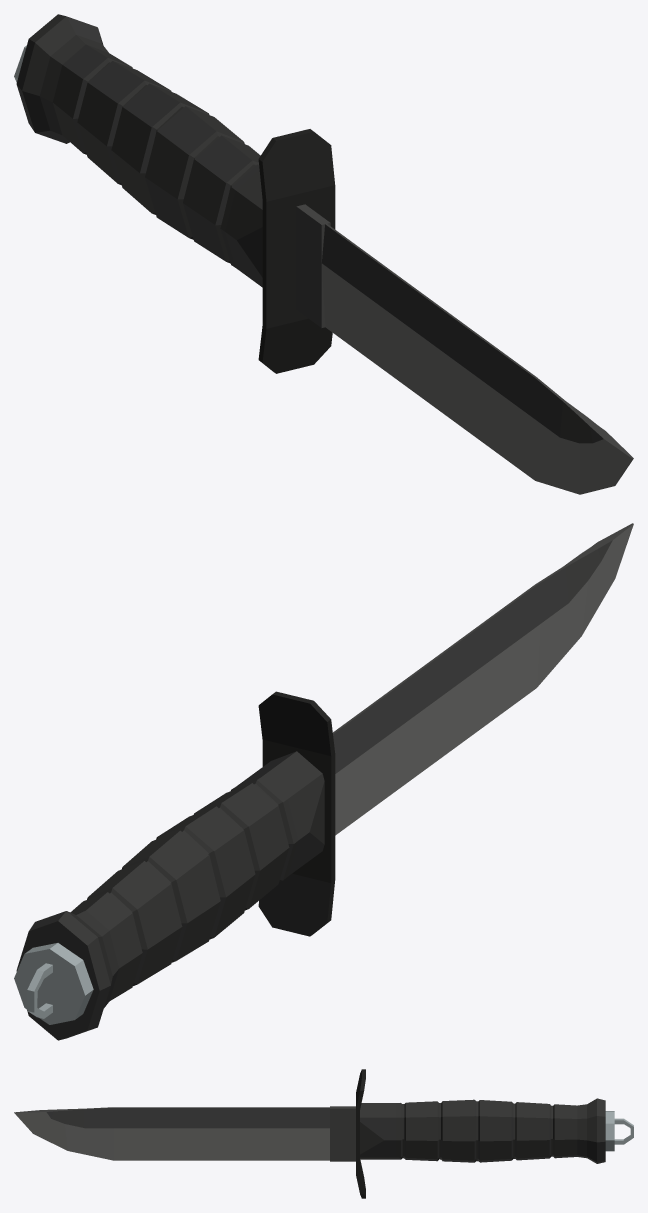
File: knife.fbx
3 views of the same model, one above another, from view 1: azimuth 30°, elevation 25°; view 2: azimuth 150°, elevation 25°; view 3: azimuth 270°, elevation 25° (orthographic). The views are drawn at different scales.
Visible parts, largest first — view 1: Knife; view 2: Knife; view 3: Knife.
Boxes of the visible parts, x1,y1,x2,y2 form: Knife: (14, 14, 633, 494); Knife: (14, 523, 633, 1040); Knife: (14, 1069, 633, 1198).
Size of the model in its own units: 3.29 by 8.26 by 38.69.
1 material, 1 textured.
